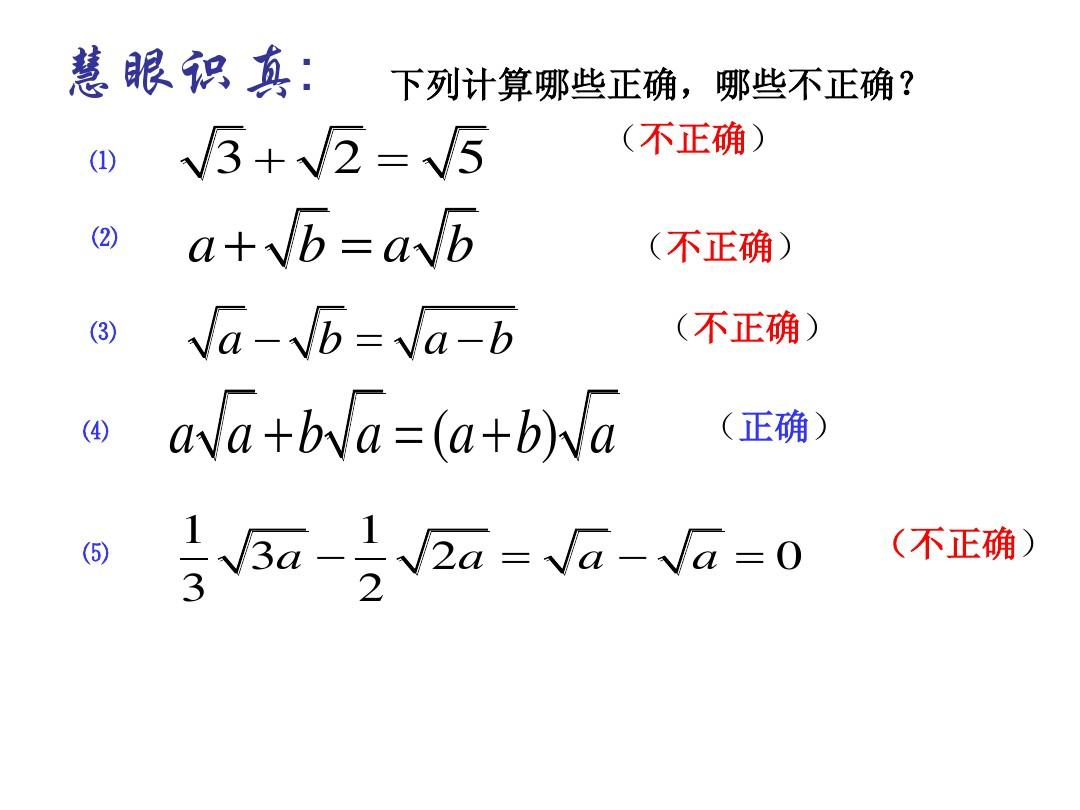division: (174, 549, 209, 568), (351, 552, 389, 565)
sqrt: (397, 298, 524, 368), (168, 119, 253, 186), (396, 520, 489, 581), (557, 383, 621, 470), (213, 519, 301, 579), (655, 516, 731, 584), (324, 381, 386, 464), (420, 118, 492, 189), (412, 201, 483, 273), (262, 203, 333, 272), (199, 381, 257, 463), (540, 519, 606, 589), (186, 295, 247, 368), (294, 124, 369, 182), (287, 301, 351, 364)
